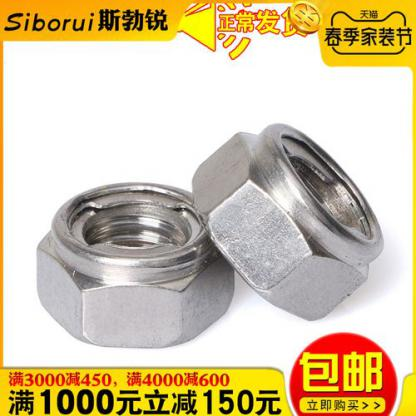FOD: (191, 120, 386, 327), (35, 178, 238, 350)
